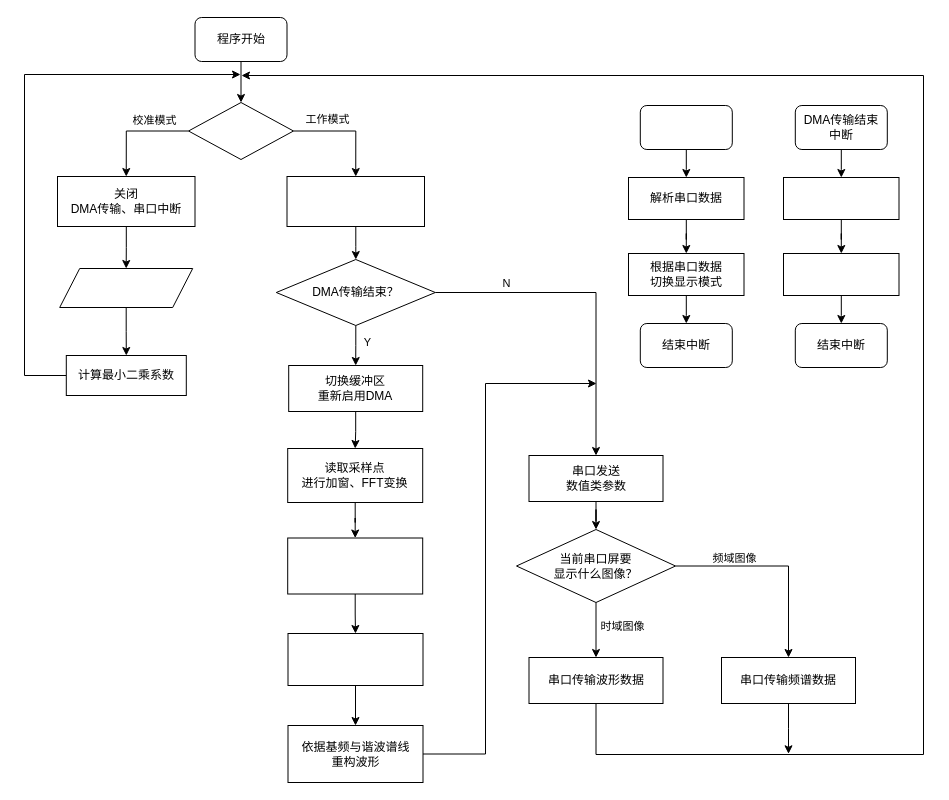
The diagram is 949 pixels wide and 800 high, and some of its shapes have lost their labels. The centre of each missing label's shape, as x and y in pixels:
串口接收中断: the point at 685,127
打开 DMA传输、串口中断: the point at 355,201
搜索基频与谐波谱线: the point at 355,659
模式选择: the point at 241,131
滤去直流偏置 与低幅值噪声信号: the point at 355,565
禁用DMA传输: the point at 840,198
置位DMA传输结束: the point at 840,274
输入 测量值与真值: the point at 126,288
